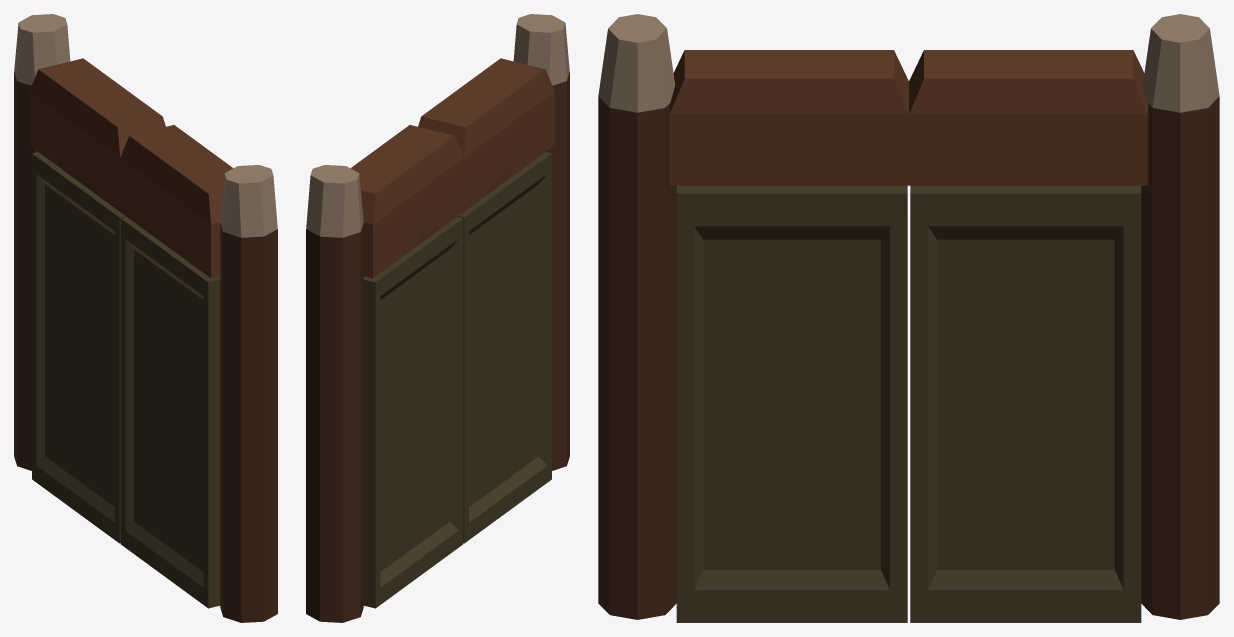
File: portão.fbx
3 renders of one model, left to right at view 1: azimuth 30°, elevation 25°; view 2: azimuth 150°, elevation 25°; view 3: azimuth 270°, elevation 25°, orthographic. The views are drawn at different scales.
Visible parts, largest first — view 1: Cube; view 2: Cube; view 3: Cube.
Part boxes in pixels (left/top/right/bottom): Cube: left=14, top=14, right=277, bottom=622; Cube: left=306, top=14, right=569, bottom=622; Cube: left=598, top=14, right=1219, bottom=622.
Size of the model in its own units: 200 by 1624 by 1582.
Materials: 1 (1 with a texture image).
